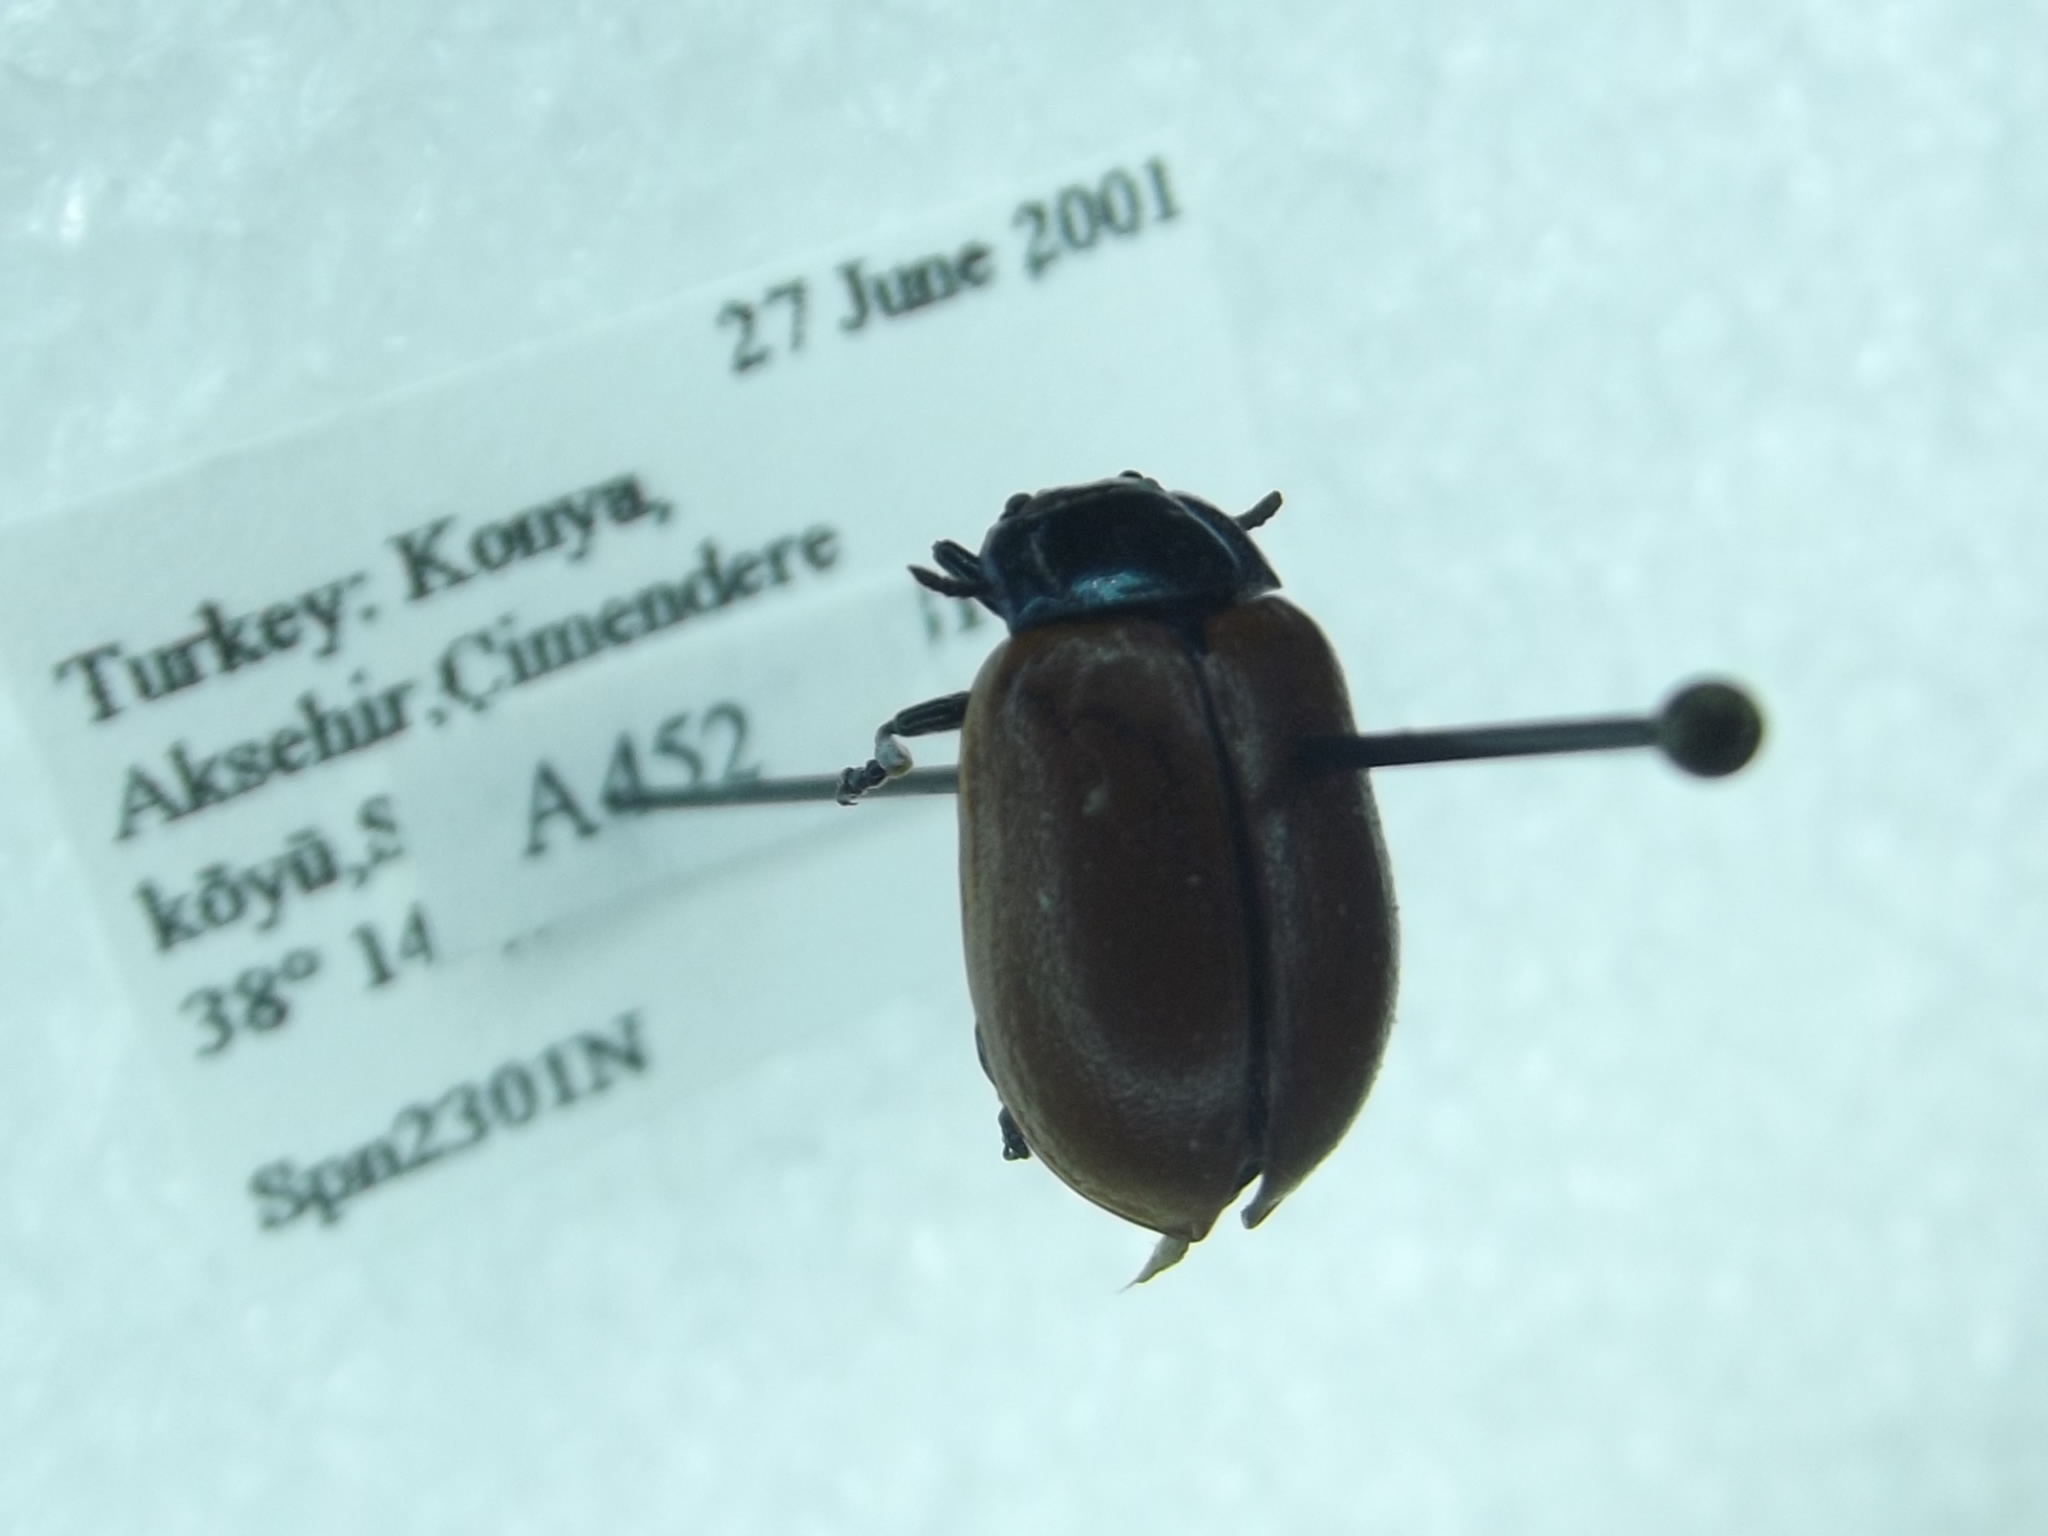Chrysomela_populi: (826, 452, 1421, 1299)
